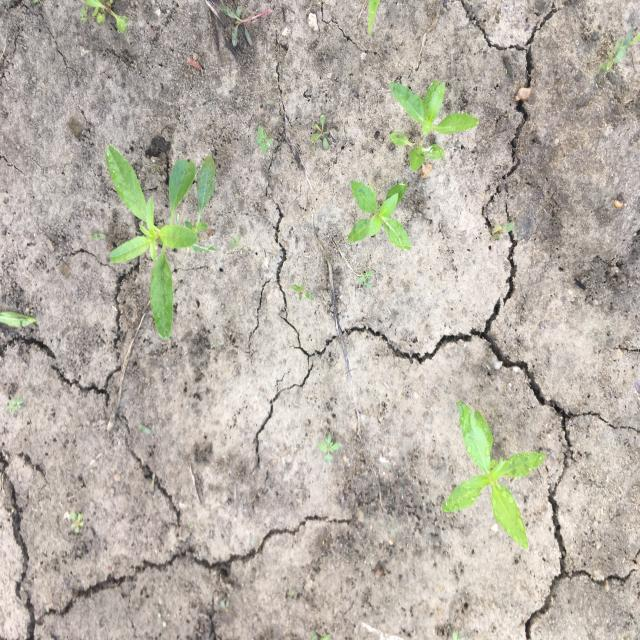Carpetweed: (309, 114, 336, 152)
Eclipta: (440, 399, 547, 551), (388, 75, 480, 173), (346, 180, 412, 253)
Waterhemp: (105, 142, 217, 342)
